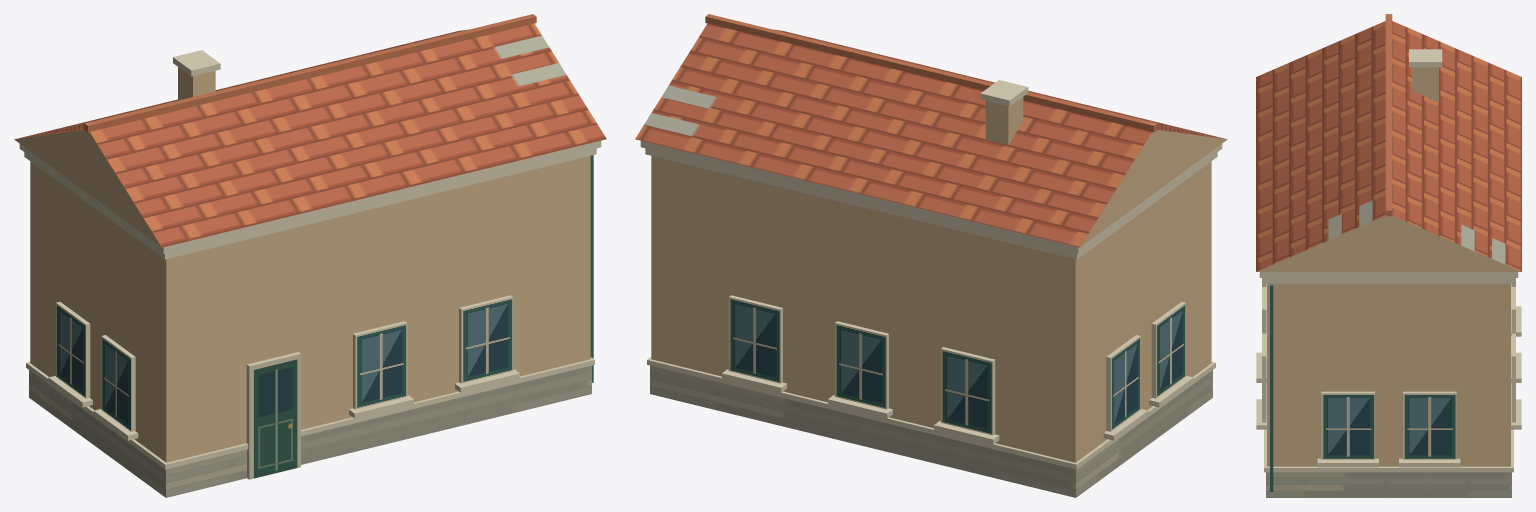
File: SM_QD_I_HarbourWarehouse.fbx
3 views of the same model, side by side, from view 1: azimuth 30°, elevation 25°; view 2: azimuth 150°, elevation 25°; view 3: azimuth 270°, elevation 25° (orthographic). The views are drawn at different scales.
Visible parts, largest first — view 1: SM_QD_I_HarbourWarehouse; view 2: SM_QD_I_HarbourWarehouse; view 3: SM_QD_I_HarbourWarehouse.
Boxes of the visible parts, box(x1,y1,x2,y2) form: SM_QD_I_HarbourWarehouse: box(14, 14, 606, 497); SM_QD_I_HarbourWarehouse: box(635, 14, 1227, 497); SM_QD_I_HarbourWarehouse: box(1256, 14, 1521, 497).
Size of what is drawn, in the model's own units: 9.52 by 5.44 by 6.96.
1 material, 1 textured.
